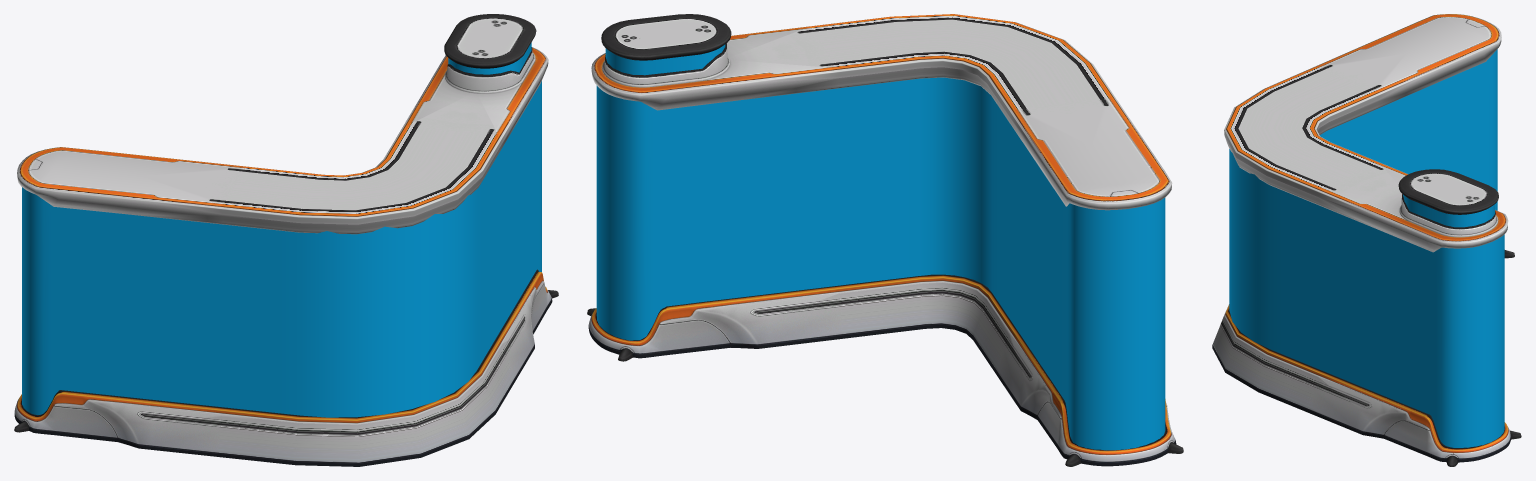
The model's file is CornerAquariumModel.fbx.
The picture shows the model from 3 angles, left to right: view 1: azimuth 30°, elevation 25°; view 2: azimuth 150°, elevation 25°; view 3: azimuth 270°, elevation 25°; orthographic projection. The views are drawn at different scales.
Parts seen in each view (by area): view 1: Aquarium_glass, Aquarium_1; view 2: Aquarium_glass, Aquarium_1; view 3: Aquarium_glass, Aquarium_1.
Part boxes in pixels (bbox=[...]): Aquarium_glass: bbox=[22, 81, 541, 417]; Aquarium_1: bbox=[14, 14, 558, 466]; Aquarium_glass: bbox=[596, 77, 1165, 450]; Aquarium_1: bbox=[587, 14, 1183, 466]; Aquarium_glass: bbox=[1229, 49, 1504, 447]; Aquarium_1: bbox=[1212, 14, 1521, 466].
Bounding box in the file's own units: 479 × 230 × 261.
